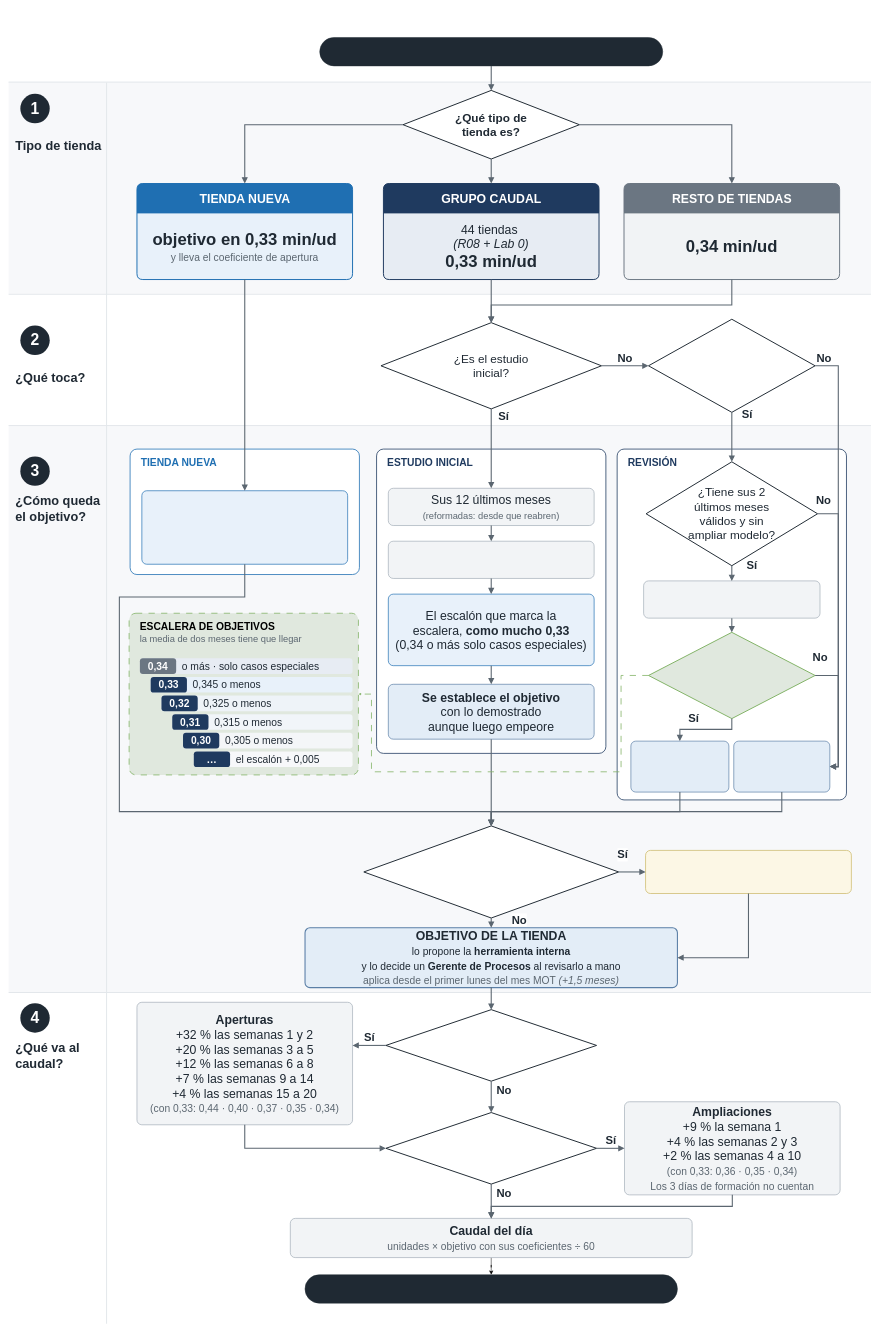
This 879x1332 diagram has some shape labels left out. Here are the shapes that lost their labels. From the top down, the centre of each, then its label:
the point at 491,51: INICIO (antes día 21)
the point at 731,365: ¿Toca revisión?
the point at 244,527: se queda en 0,33 hasta llevar dos meses
the point at 491,560: Su mejor media de dos meses seguidos
the point at 731,599: Media de sus dos últimos meses
the point at 731,675: ¿Llega al umbral del escalón siguiente?
the point at 679,766: Propone bajar un escalón
the point at 781,766: Propone mantener su objetivo
the point at 491,871: ¿La media de sus últ. dos meses va dos escalones o más peor que su objetivo?
the point at 748,872: ALERTA se revisa con más detalle
the point at 491,1045: ¿Ese día lleva menos de 20 semanas abierta?
the point at 491,1148: ¿Amplió modelo hace menos de 10 semanas?
the point at 491,1288: FIN (caudal del MOT)
